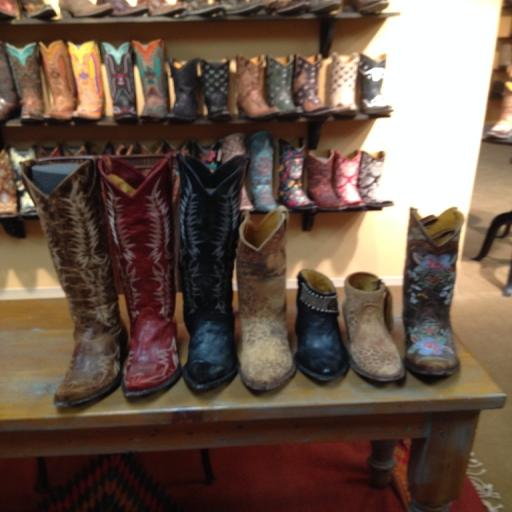boots: (0, 65, 512, 139), (21, 158, 127, 406), (98, 154, 181, 396), (177, 154, 249, 390), (236, 206, 295, 392), (403, 208, 463, 376), (342, 272, 404, 382), (294, 269, 349, 381), (5, 43, 44, 123), (132, 39, 170, 121), (39, 40, 77, 121), (67, 40, 104, 120), (100, 42, 137, 122), (236, 54, 279, 120), (278, 139, 317, 210), (220, 133, 254, 211), (292, 54, 332, 118), (305, 151, 346, 211), (247, 131, 277, 212), (264, 55, 300, 119), (358, 54, 392, 116), (9, 146, 38, 218), (358, 151, 394, 208), (200, 59, 233, 121), (168, 58, 199, 122), (330, 52, 360, 116), (332, 150, 364, 208), (0, 41, 21, 121), (182, 139, 222, 172), (0, 149, 18, 217), (59, 0, 113, 18), (96, 0, 149, 17), (138, 0, 186, 17), (19, 0, 57, 20), (184, 0, 225, 18), (265, 0, 309, 16), (222, 0, 265, 16), (348, 0, 388, 14), (308, 0, 342, 15), (0, 0, 19, 20)
